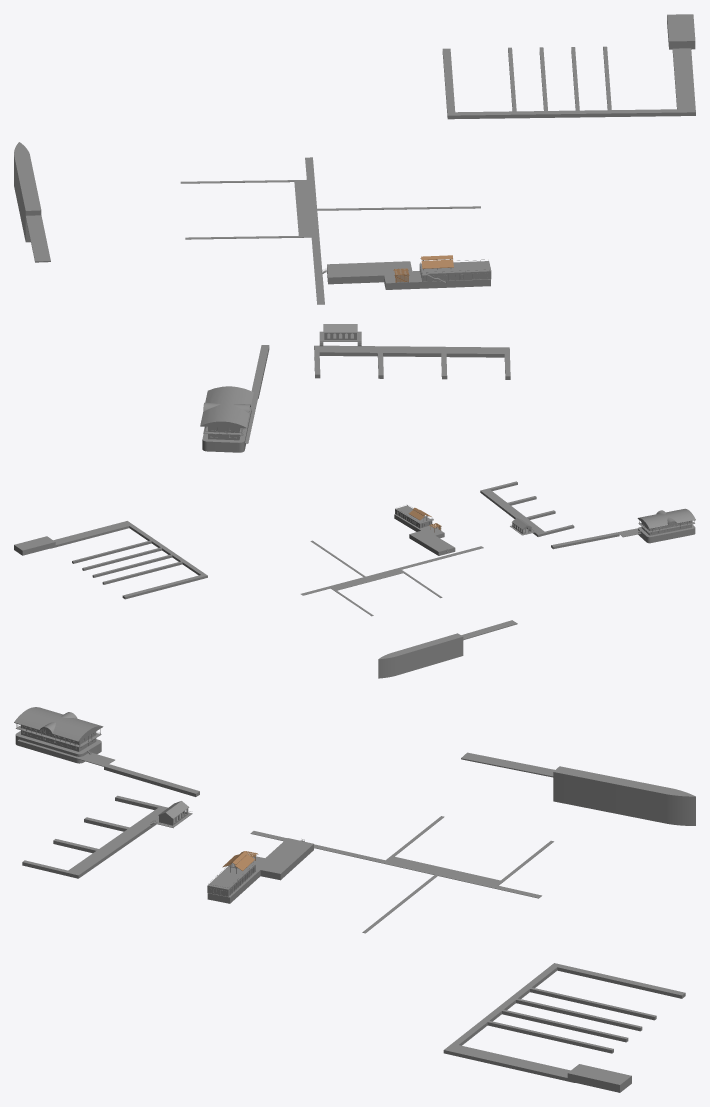
Rendered from 01_City_Pier.glb.
3 views of the same model, one above another, from view 1: azimuth 30°, elevation 25°; view 2: azimuth 150°, elevation 25°; view 3: azimuth 270°, elevation 25° (orthographic). The views are drawn at different scales.
Parts seen in each view (by area): view 1: 01_City_Pier; view 2: 01_City_Pier; view 3: 01_City_Pier.
Boxes of the visible parts, bbox=[...] form: 01_City_Pier: bbox=[14, 14, 695, 452]; 01_City_Pier: bbox=[14, 481, 695, 678]; 01_City_Pier: bbox=[14, 707, 695, 1092].
Bounding box in the file's own units: 351 × 21.98 × 275.
